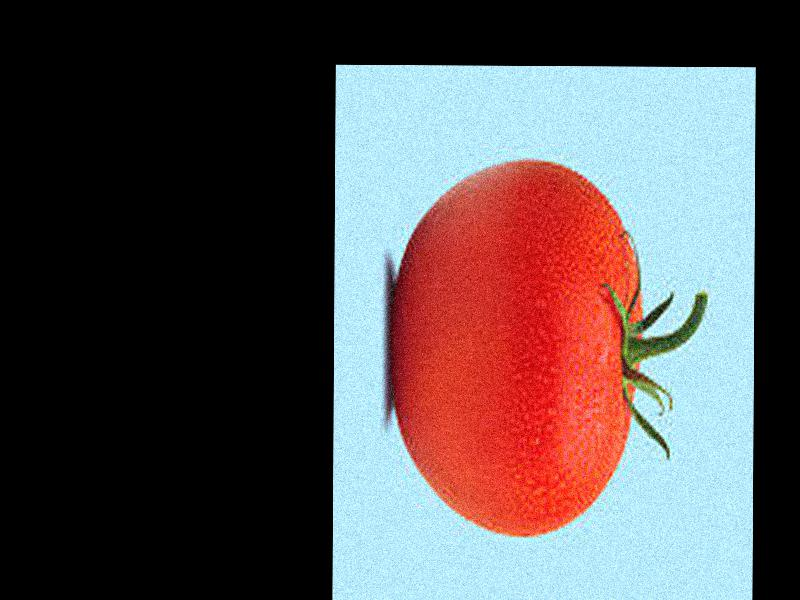Tomato: (394, 160, 641, 538)
